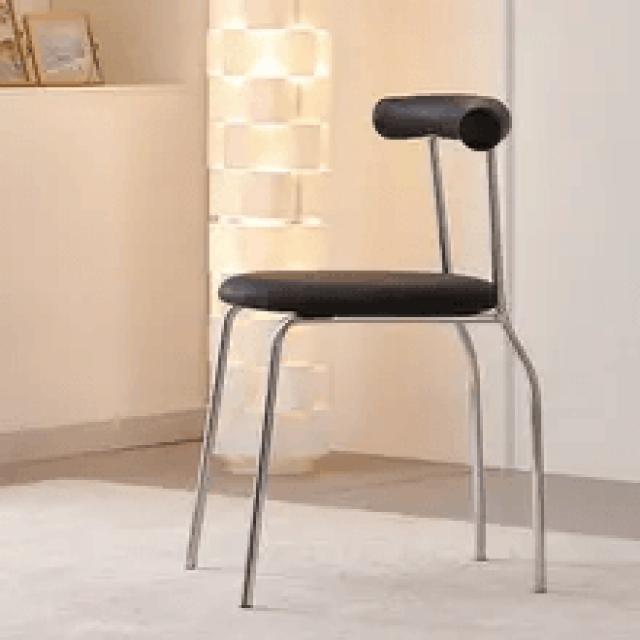chair: (184, 86, 552, 611), (202, 91, 514, 312)
